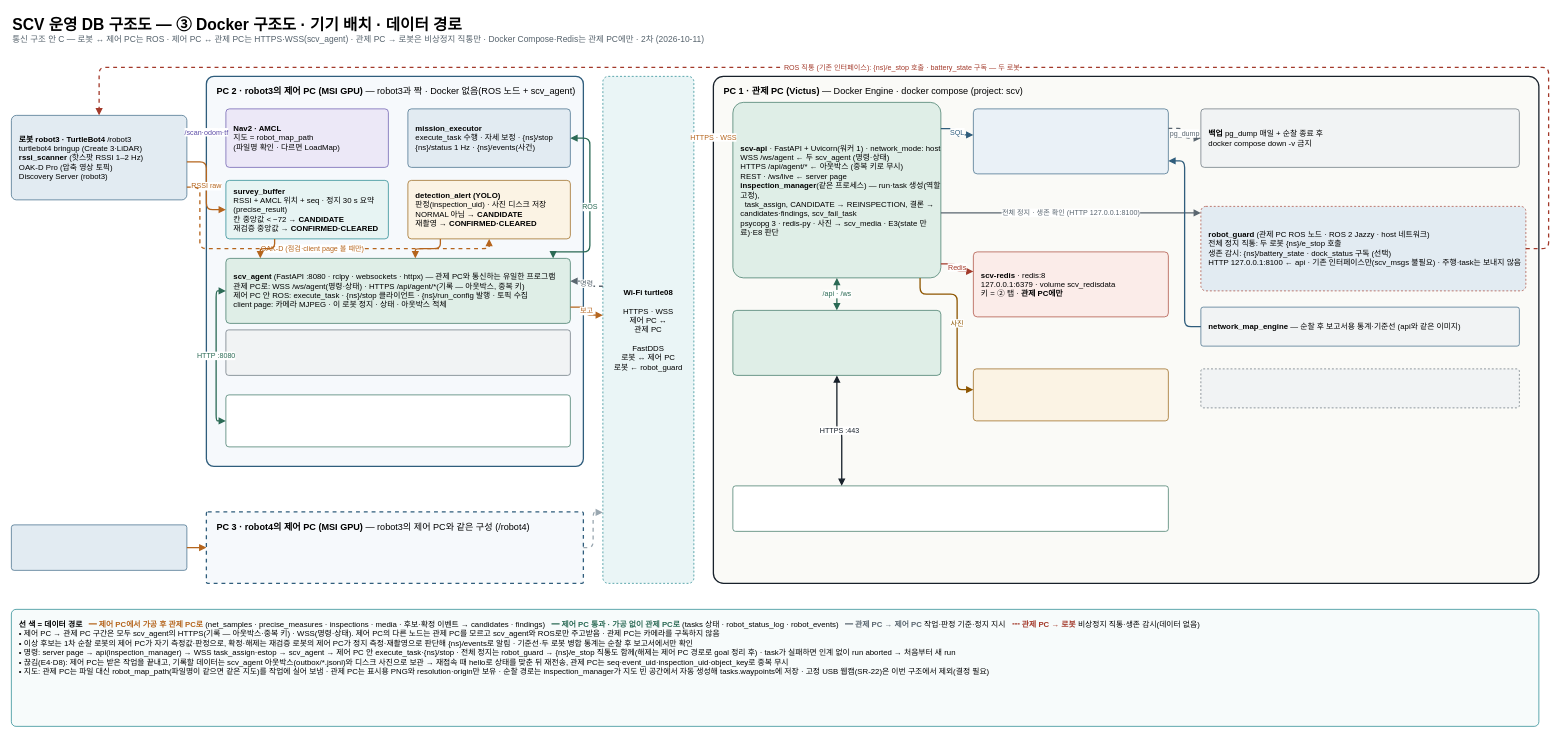
Image size: 1566x738. Some labels were removed from this diagram. Each missing label, with the centre of its shape:
client page — robot3의 제어 PC 브라우저 카메라 · 로컬 정지 · 상태: the point at 397,420
dev 프로필 (선택) pgAdmin · RedisInsight: the point at 1359,388
scv-postgres · postgres:16 127.0.0.1:5432 · volume scv_pgdata 스키마 = ① 탭: the point at 1070,141
scv-web · nginx :443 (자체 CA 인증서) server page (React 빌드) /api · /ws → scv-api: the point at 836,342
server page — 관제 PC 브라우저 (admin · viewer) 네트워크 · 작업·로봇 · 이벤트 · 점검 · 보고서 · 설정: the point at 950,508
volume scv_media 증거 사진 · 보고서 파일: the point at 1070,394
로봇 robot4 · TurtleBot4 /robot4 robot3과 같은 구성: the point at 99,547
로컬 디스크 /opt/scv maps/ (robot_map_path) · outbox/*.jsonl (아웃박스) · photos/: the point at 397,352
